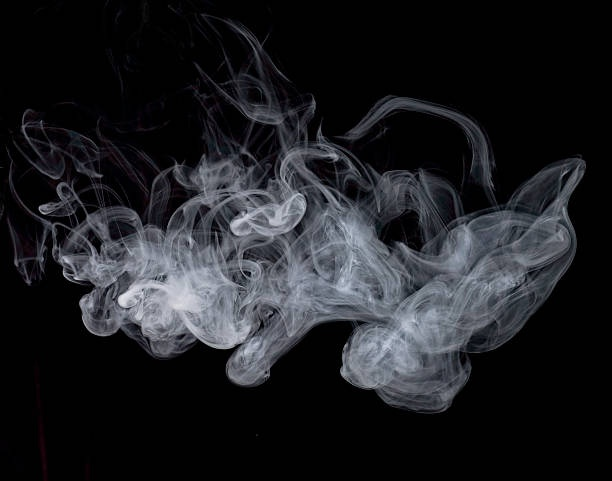smoke: (20, 95, 585, 414)
